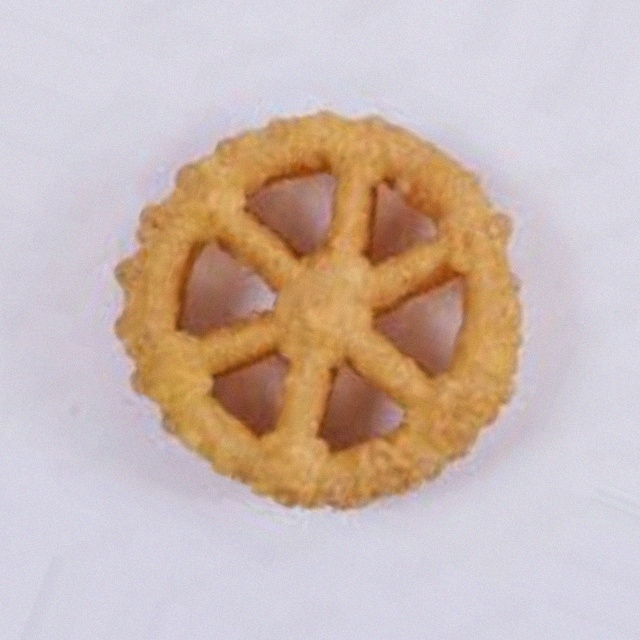Kokis: (108, 80, 532, 560)
